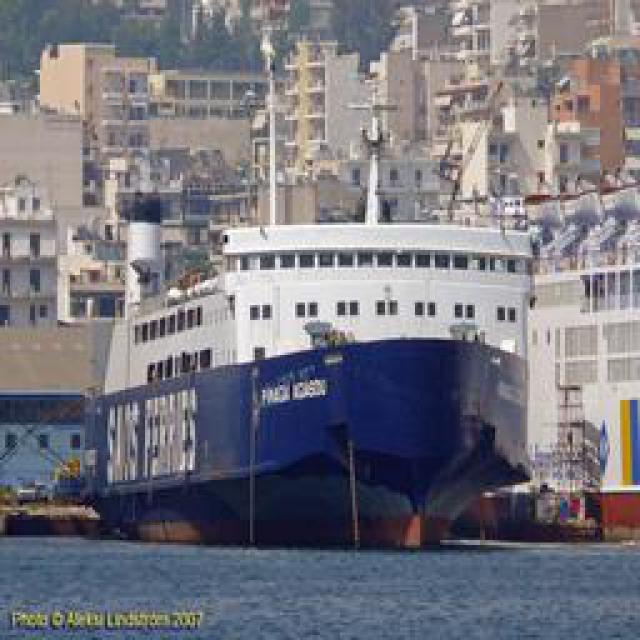Ship: (72, 294, 550, 539)
